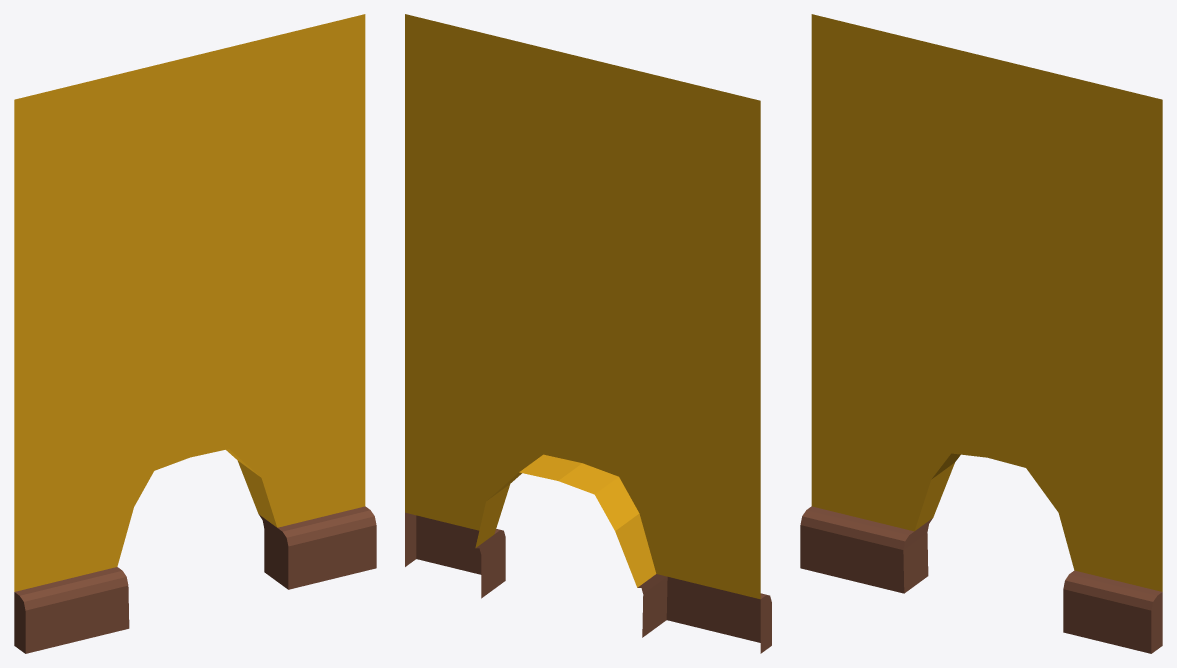
File: MouseHole.fbx
3 views of the same model, side by side, from view 1: azimuth 30°, elevation 25°; view 2: azimuth 150°, elevation 25°; view 3: azimuth 330°, elevation 25° (orthographic).
Visible parts, largest first — view 1: MouseHole; view 2: MouseHole; view 3: MouseHole.
Boxes of the visible parts, box(x1,y1,x2,y2) form: MouseHole: box(14, 14, 376, 653); MouseHole: box(405, 14, 771, 653); MouseHole: box(800, 14, 1162, 653).
Size of the model in its own units: 200 by 297 by 34.67.
